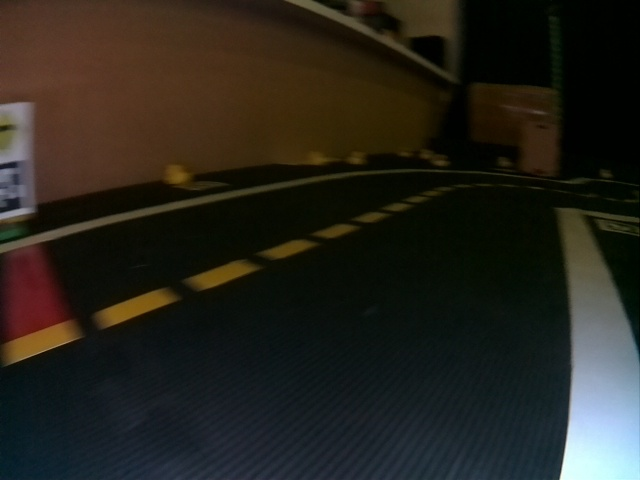Duckie: (164, 165, 187, 183), (348, 151, 364, 164)
QR code: (0, 159, 31, 216), (598, 218, 638, 236)
